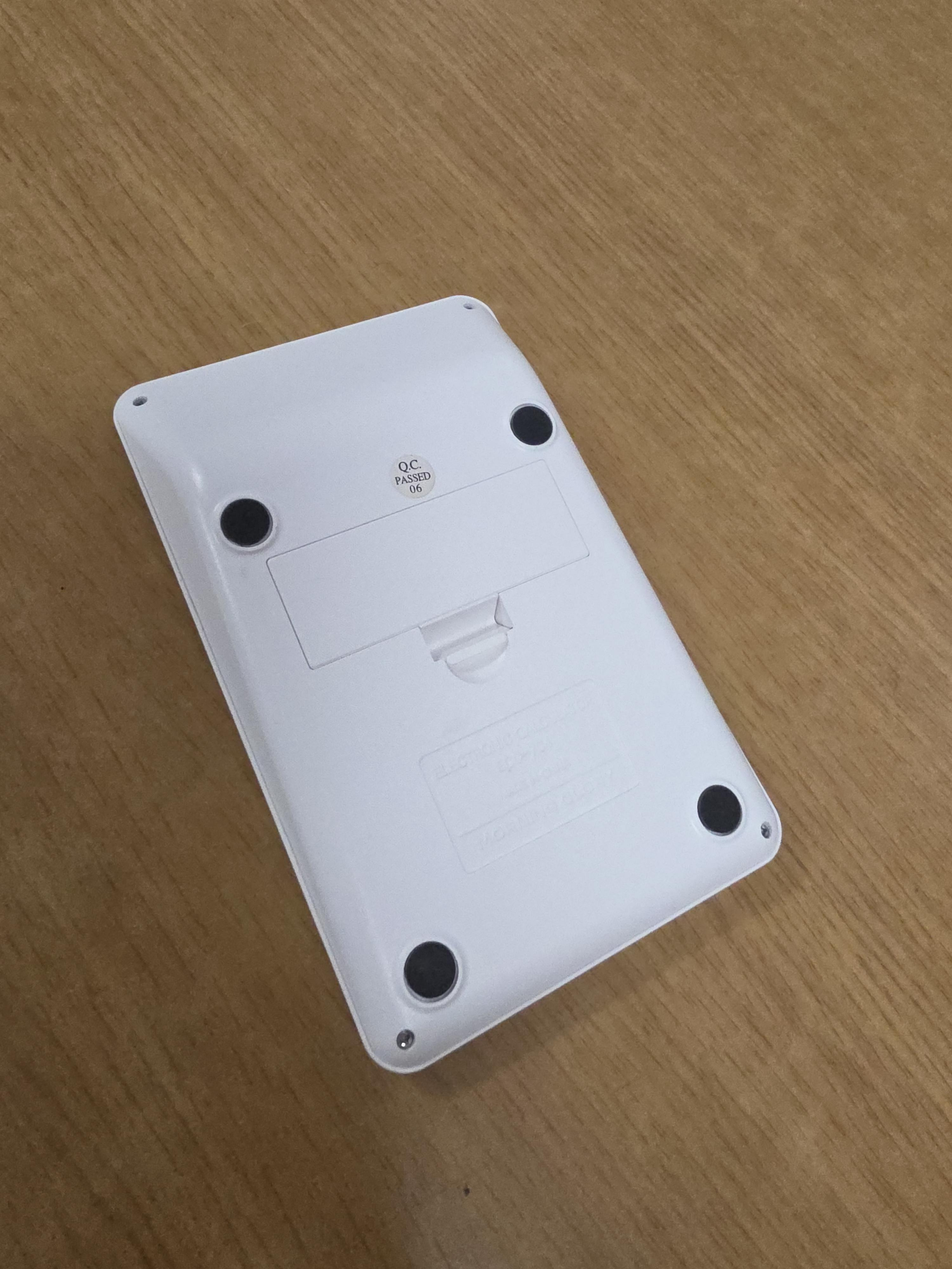calculator: (112, 294, 782, 1074)
